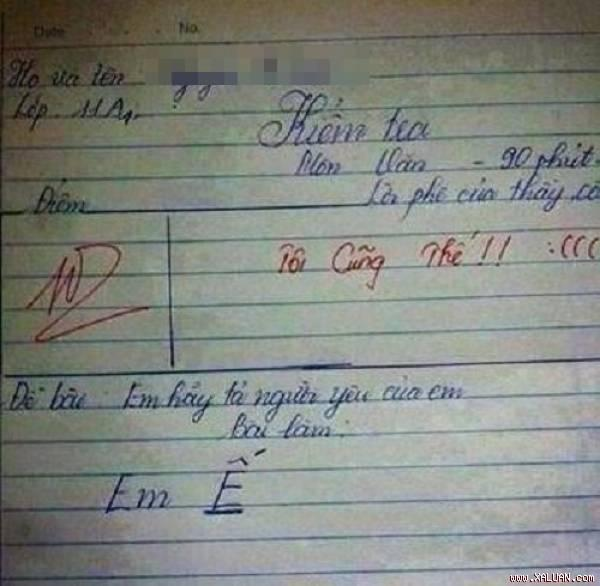text: (1, 371, 462, 423), (273, 225, 600, 295), (99, 444, 269, 524), (363, 173, 600, 225), (254, 84, 433, 152), (7, 88, 142, 141), (19, 244, 93, 327), (5, 51, 135, 97), (290, 143, 431, 183), (467, 138, 600, 178), (224, 413, 336, 444), (22, 172, 92, 221), (503, 571, 599, 585), (173, 82, 212, 107)
